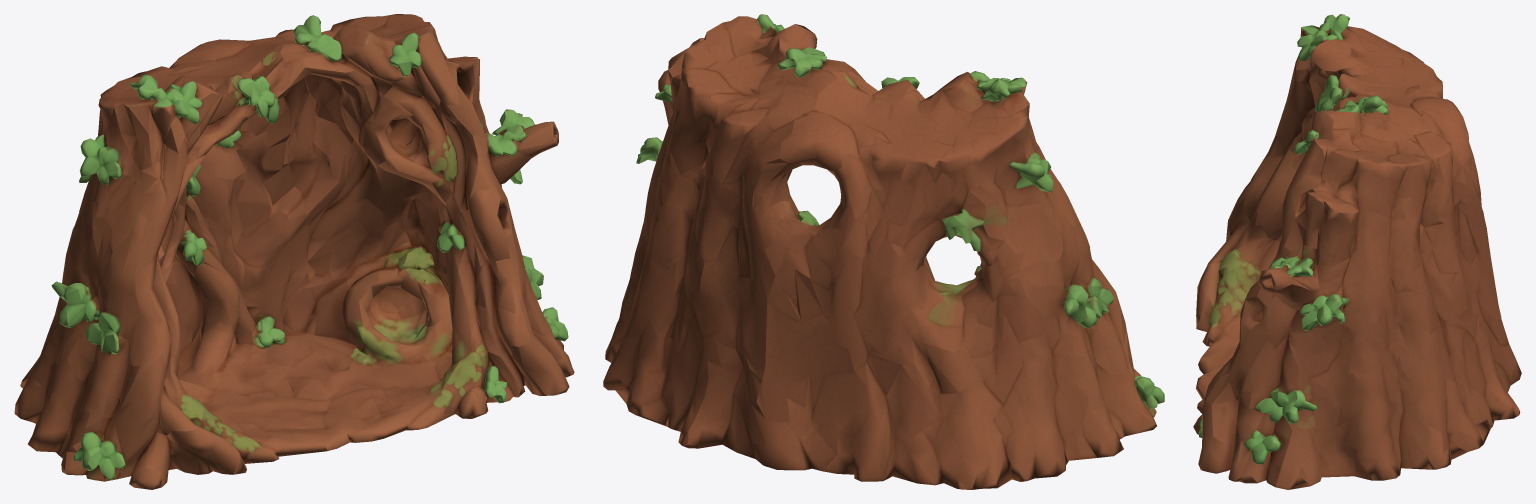
Rendered from forest-hollow.glb.
3 renders of one model, left to right at view 1: azimuth 30°, elevation 25°; view 2: azimuth 150°, elevation 25°; view 3: azimuth 270°, elevation 25°, orthographic. The views are drawn at different scales.
Visible parts, largest first — view 1: forest-hollow; view 2: forest-hollow; view 3: forest-hollow.
Part boxes in pixels (x1=…): forest-hollow: x1=14, y1=14, x2=574, y2=489; forest-hollow: x1=603, y1=14, x2=1164, y2=489; forest-hollow: x1=1193, y1=14, x2=1521, y2=489.
Size of the model in its own units: 1.9 by 1.23 by 1.19.
1 material, 1 textured.
